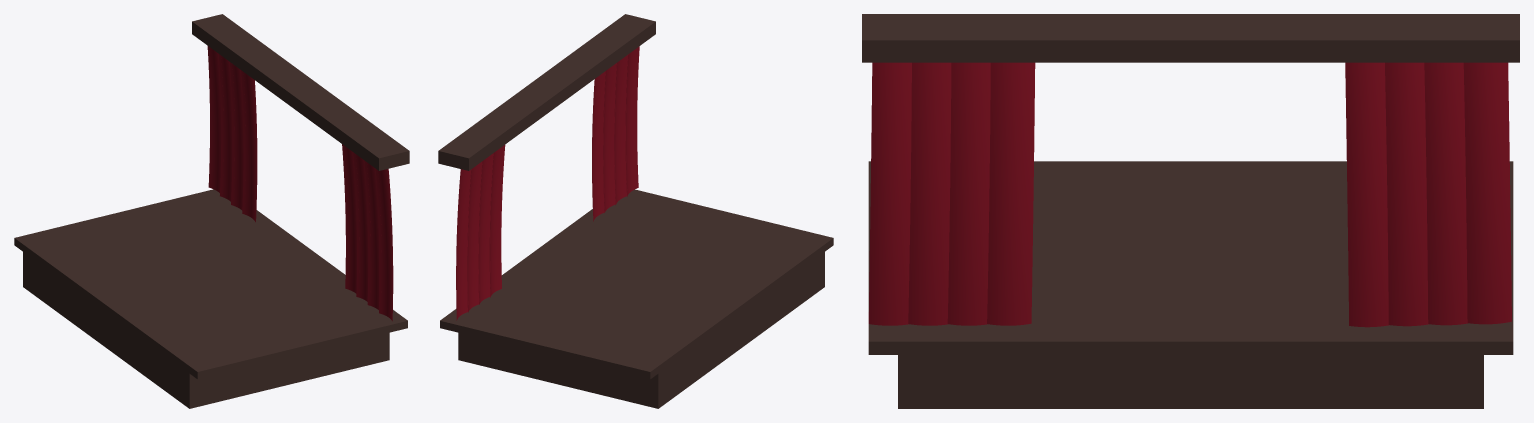
File: Stage.fbx
The picture shows the model from 3 angles, left to right: view 1: azimuth 30°, elevation 25°; view 2: azimuth 150°, elevation 25°; view 3: azimuth 270°, elevation 25°; orthographic projection. The views are drawn at different scales.
Parts seen in each view (by area): view 1: Cube.001, SurfPatch; view 2: Cube.001, SurfPatch; view 3: Cube.001, SurfPatch.
Boxes of the visible parts, x1,y1,x2,y2 form: Cube.001: [14, 14, 409, 408]; SurfPatch: [207, 46, 393, 321]; Cube.001: [438, 14, 833, 408]; SurfPatch: [456, 46, 639, 320]; Cube.001: [862, 14, 1519, 408]; SurfPatch: [868, 62, 1511, 327].
Bounding box in the file's own units: 959 × 934 × 1477.
